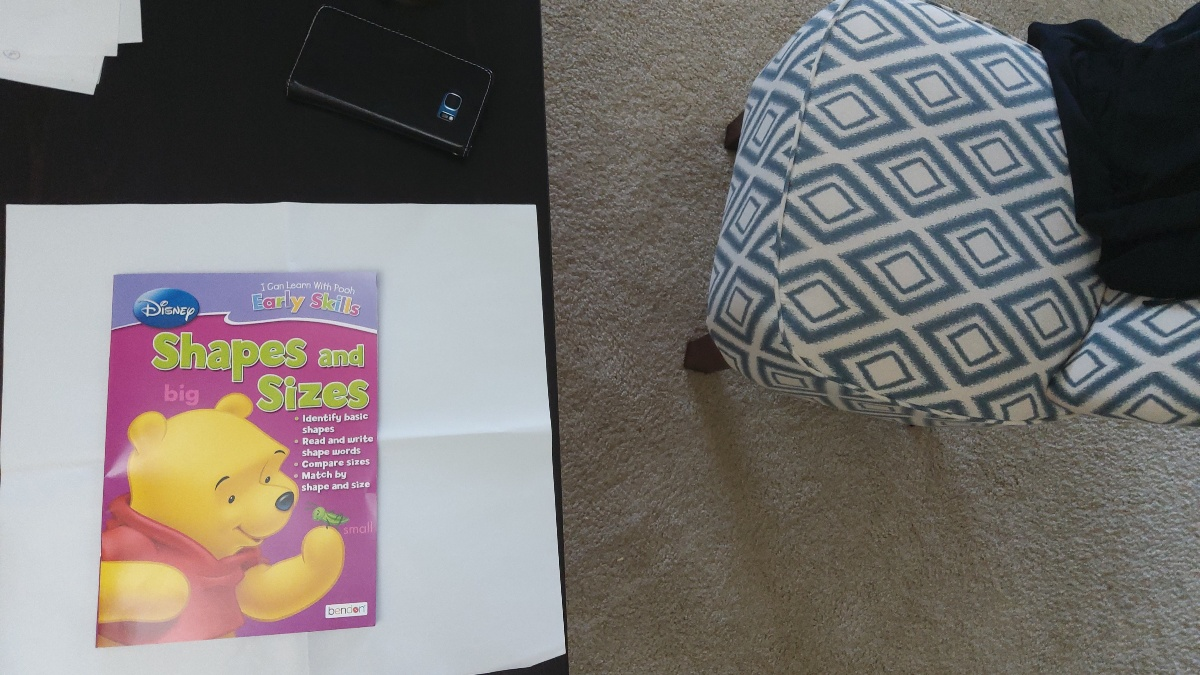book: (113, 274, 378, 633)
